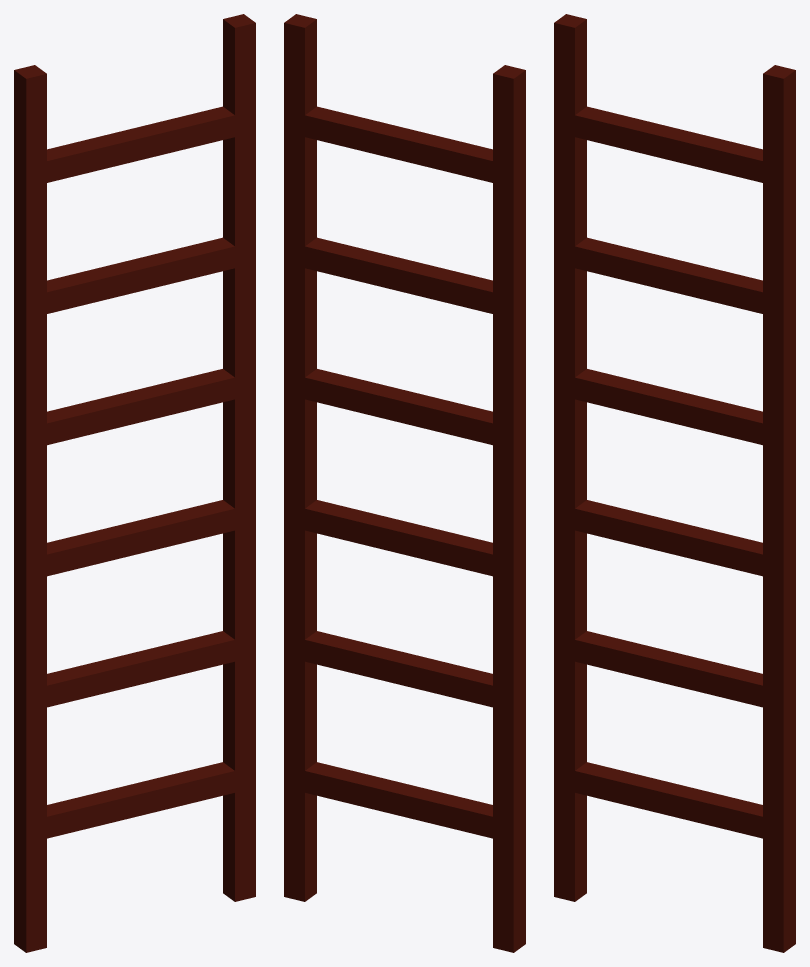
The model's file is ladder.obj.
The picture shows the model from 3 angles, left to right: view 1: azimuth 30°, elevation 25°; view 2: azimuth 150°, elevation 25°; view 3: azimuth 330°, elevation 25°; orthographic projection.
Visible parts, largest first — view 1: Ladder_mesh; view 2: Ladder_mesh; view 3: Ladder_mesh.
Boxes of the visible parts, x1=… form: Ladder_mesh: x1=14, y1=14, x2=255, y2=952; Ladder_mesh: x1=284, y1=14, x2=525, y2=952; Ladder_mesh: x1=554, y1=14, x2=795, y2=952.
Size of the model in its own units: 0.55 by 2 by 0.05.
